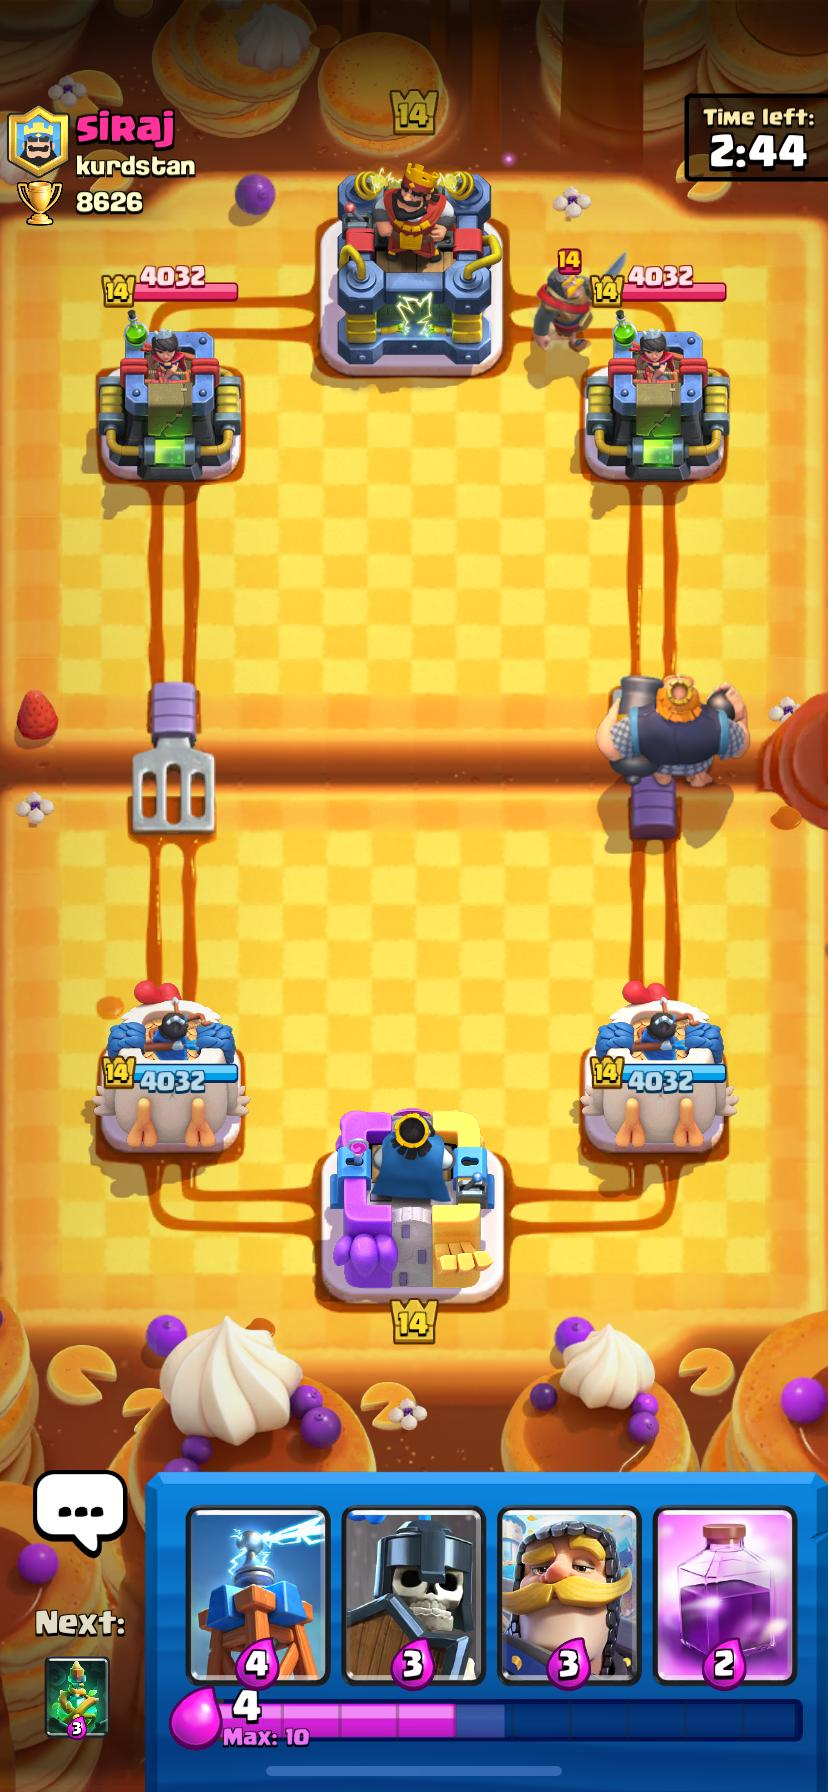EKingTower: (320, 165, 502, 377)
EKnight: (534, 248, 594, 349)
EnemyPrincessTower: (97, 311, 242, 481), (584, 312, 729, 481)
ORoyalG: (596, 675, 749, 787)
OwnKingTower: (321, 1109, 503, 1303)
OwnPrincessTower: (581, 982, 737, 1154), (93, 983, 248, 1152)
